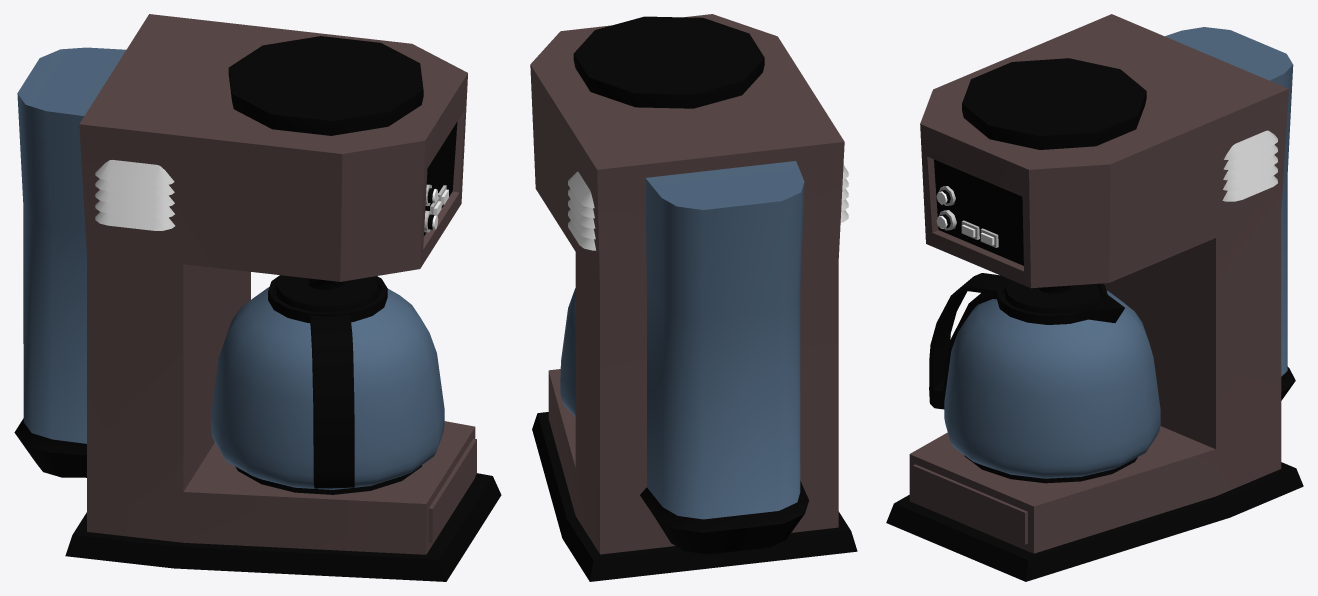
Rendered from coffee.fbx.
The picture shows the model from 3 angles, left to right: view 1: azimuth 30°, elevation 25°; view 2: azimuth 150°, elevation 25°; view 3: azimuth 270°, elevation 25°; orthographic projection. The views are drawn at different scales.
Parts seen in each view (by area): view 1: Cube_015_0, Cube_015_4, Cube_015_1, Cube_015_2; view 2: Cube_015_0, Cube_015_4, Cube_015_1, Cube_015_2; view 3: Cube_015_0, Cube_015_1, Cube_015_4, Cube_015_2.
Boxes of the visible parts, x1=… form: Cube_015_0: x1=79, y1=14, x2=476, y2=554; Cube_015_4: x1=17, y1=47, x2=444, y2=489; Cube_015_1: x1=14, y1=36, x2=501, y2=581; Cube_015_2: x1=95, y1=160, x2=446, y2=232; Cube_015_0: x1=530, y1=14, x2=844, y2=554; Cube_015_4: x1=560, y1=161, x2=804, y2=519; Cube_015_1: x1=532, y1=16, x2=857, y2=581; Cube_015_2: x1=568, y1=165, x2=848, y2=250; Cube_015_0: x1=909, y1=14, x2=1288, y2=553; Cube_015_1: x1=886, y1=58, x2=1303, y2=581; Cube_015_4: x1=944, y1=27, x2=1293, y2=478; Cube_015_2: x1=939, y1=130, x2=1277, y2=247.
Size of the model in its own units: 74.03 by 80.63 by 74.03.
